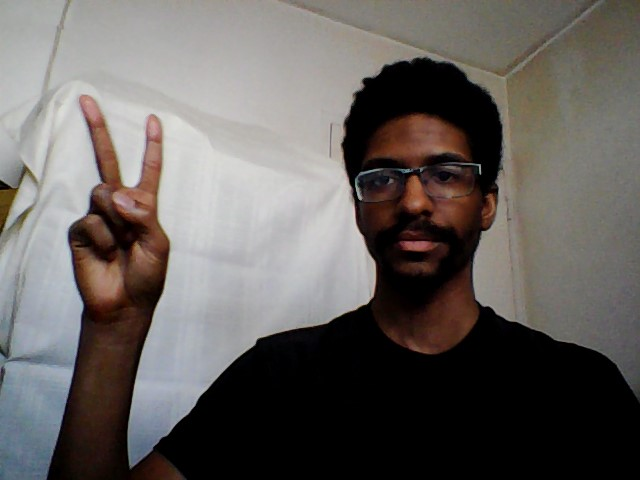v: (63, 88, 175, 328)
